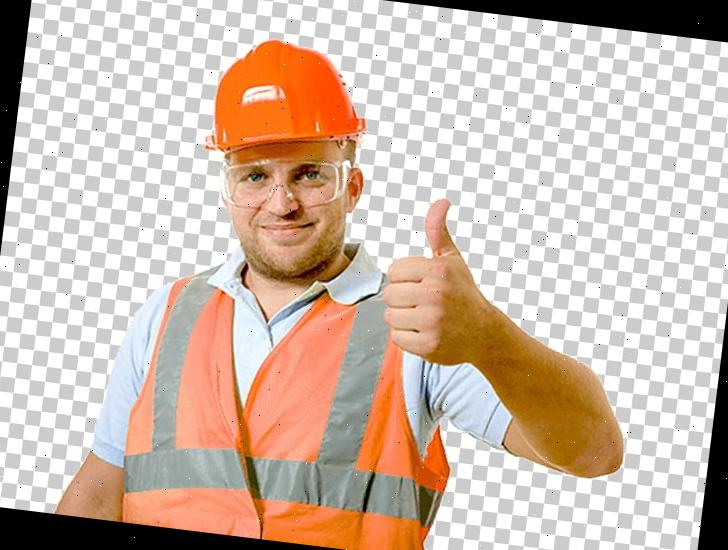helmet: (202, 31, 373, 170)
wear: (110, 242, 471, 550)
